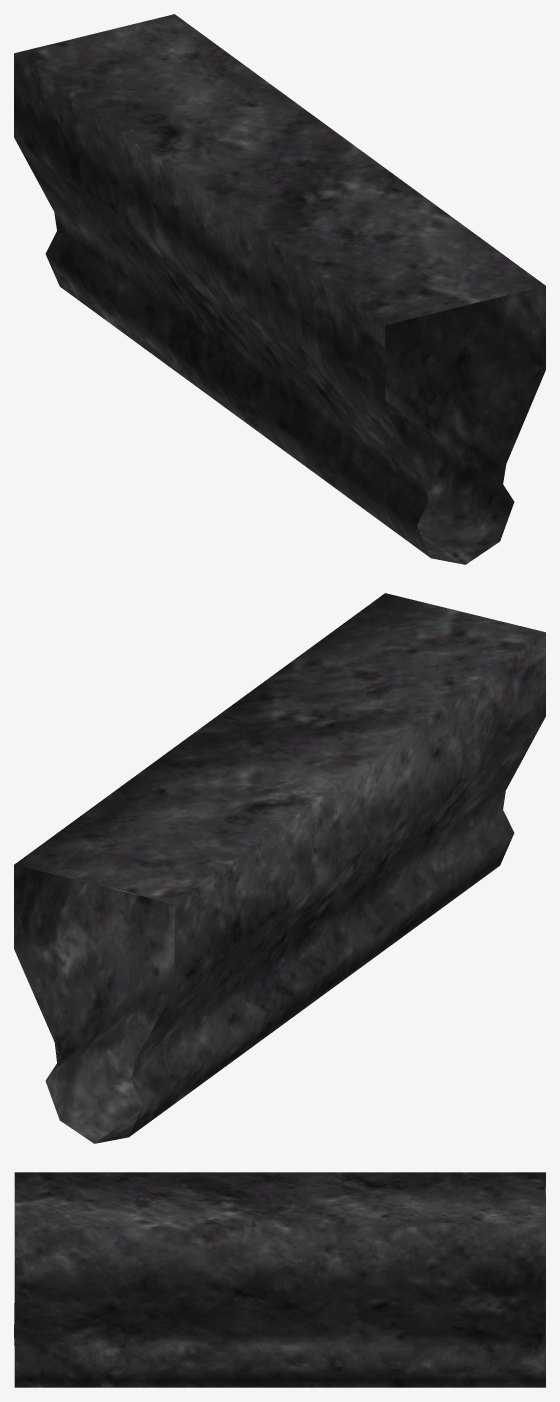
Rendered from Bk_Lintel.glb.
3 views of the same model, one above another, from view 1: azimuth 30°, elevation 25°; view 2: azimuth 150°, elevation 25°; view 3: azimuth 270°, elevation 25° (orthographic). The views are drawn at different scales.
Parts seen in each view (by area): view 1: Bk_Lintel; view 2: Bk_Lintel; view 3: Bk_Lintel.
Part boxes in pixels (x1,y1,x2,y2): Bk_Lintel: [14, 14, 545, 564]; Bk_Lintel: [14, 593, 545, 1143]; Bk_Lintel: [14, 1172, 545, 1387].
Bounding box in the file's own units: 0.5 × 0.7712 × 2.
1 material, 1 textured.
